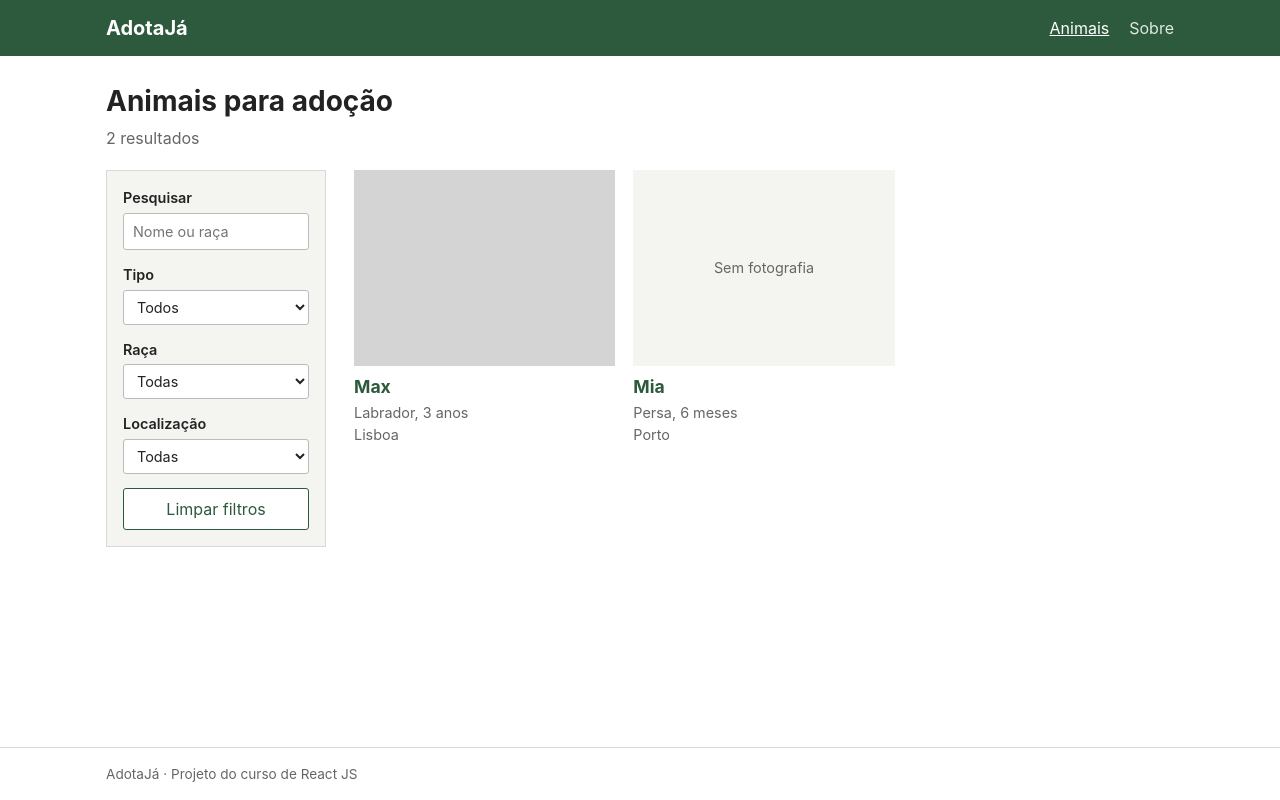
it: navegação › navega para a página Sobre
The width and height of the screenshot is (1280, 800).
What coordinates should you click on to do the following:
click the link "Sobre"
I would click on:
 (1152, 28)
Its box is top-left (1129, 16), bottom-right (1174, 40).
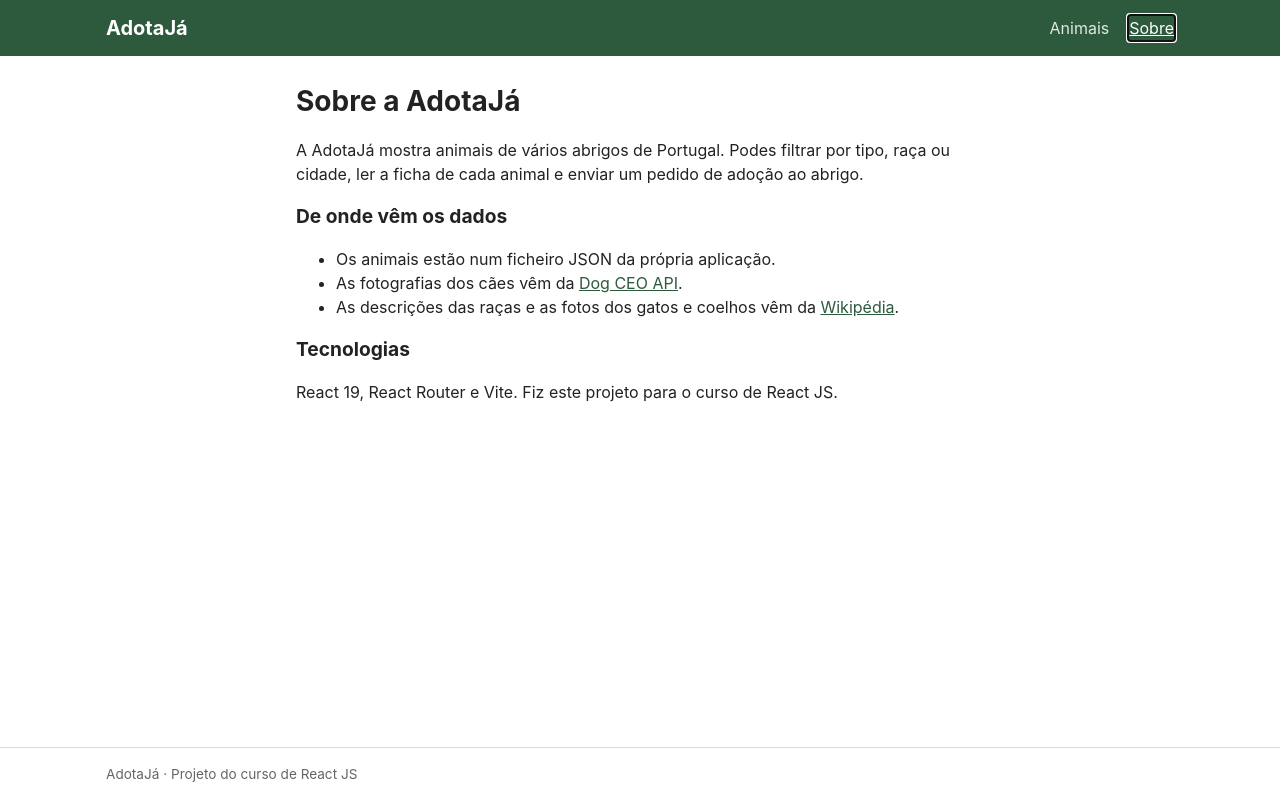
Result: the heading "Sobre a AdotaJá" is shown at top-left (296, 84), bottom-right (520, 118)
